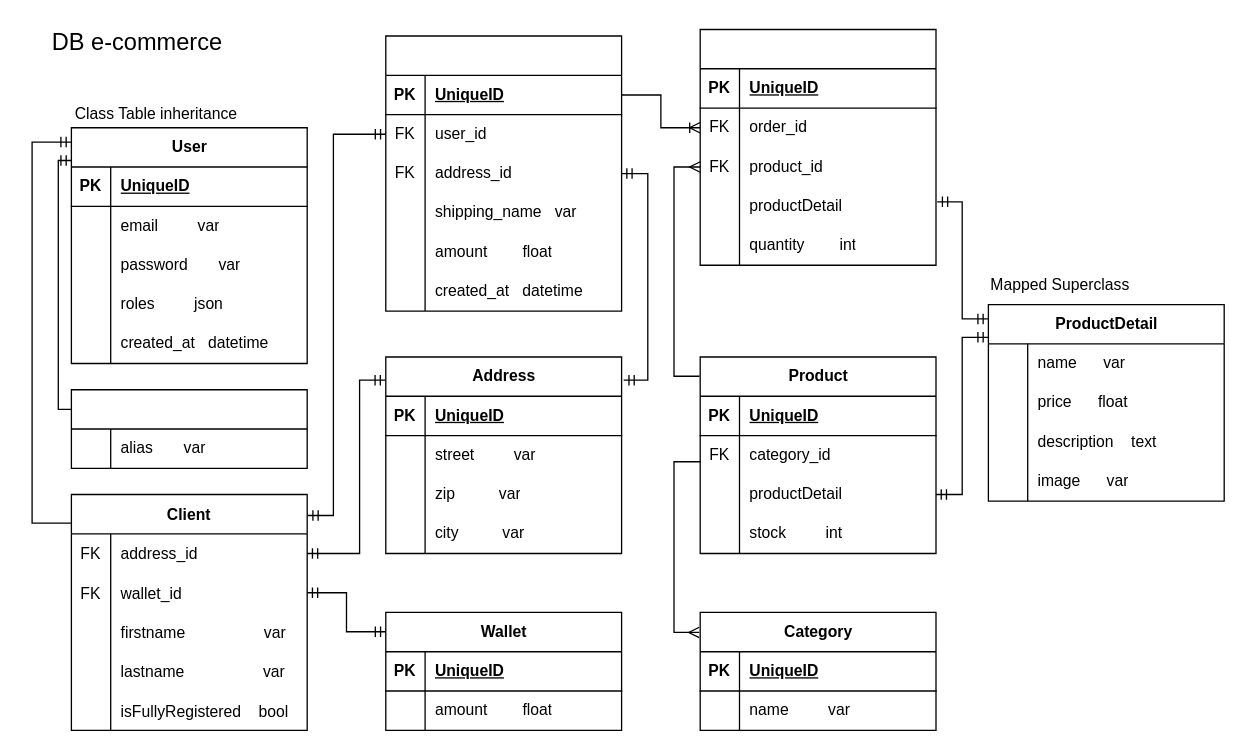
Some shapes in this 1247 by 753 pixel diagram are drawn without their labels. Here are the shapes that lost their labels. From the top down, the box of each, then its label:
(699, 28, 936, 265): OrderDetail
(384, 35, 622, 311): Order
(70, 388, 307, 468): Admin
